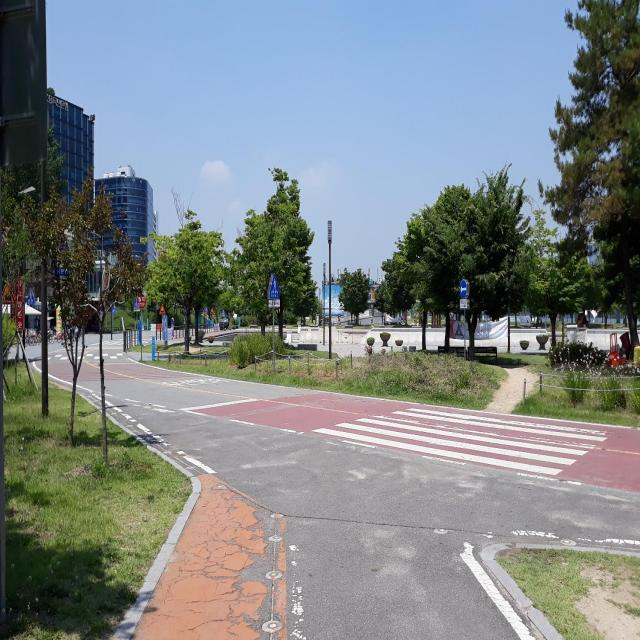횡단보도: (314, 403, 609, 478), (44, 350, 130, 362)
